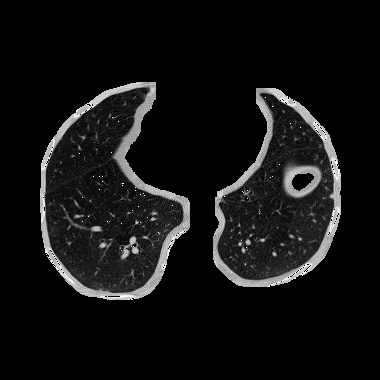PN: (329, 194, 333, 198)
